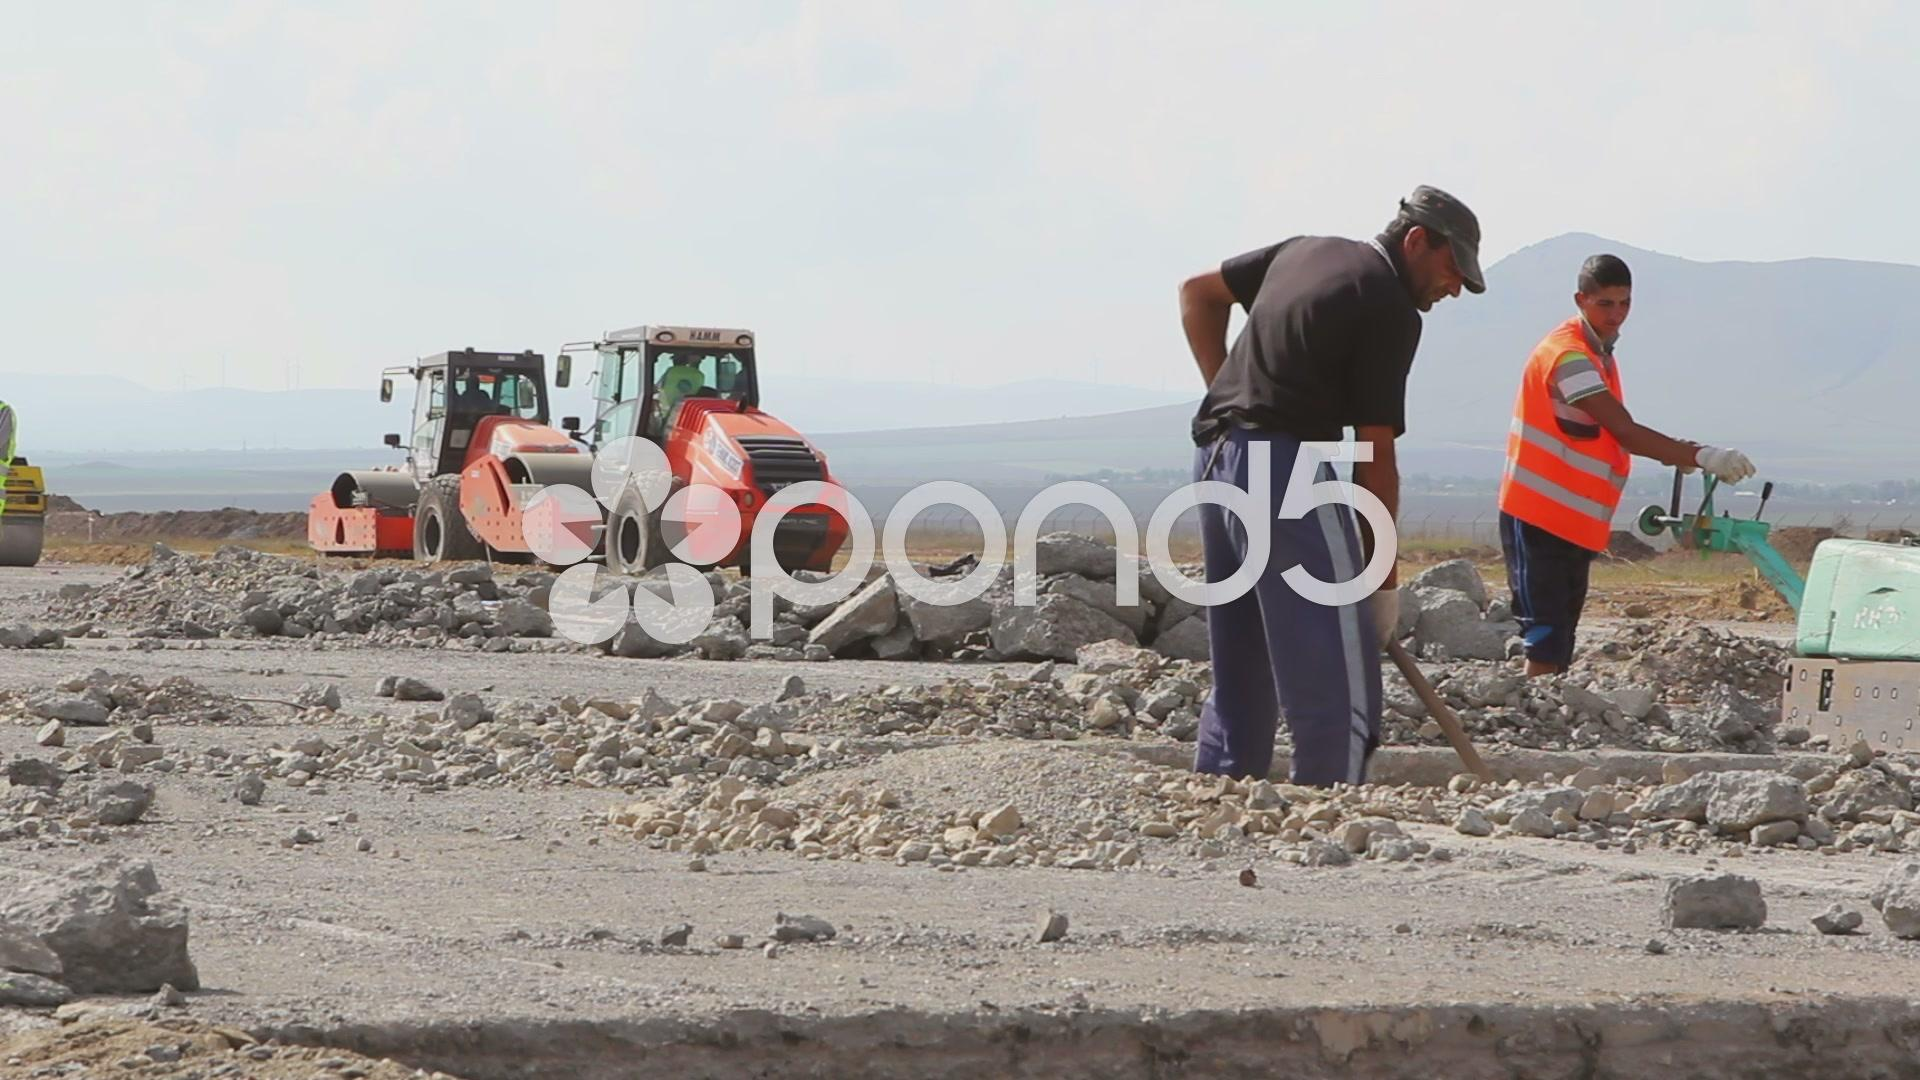no hat: (1381, 158, 1528, 411), (1551, 214, 1674, 374)
no vest: (1204, 181, 1431, 581)
vest: (1518, 321, 1634, 608)
